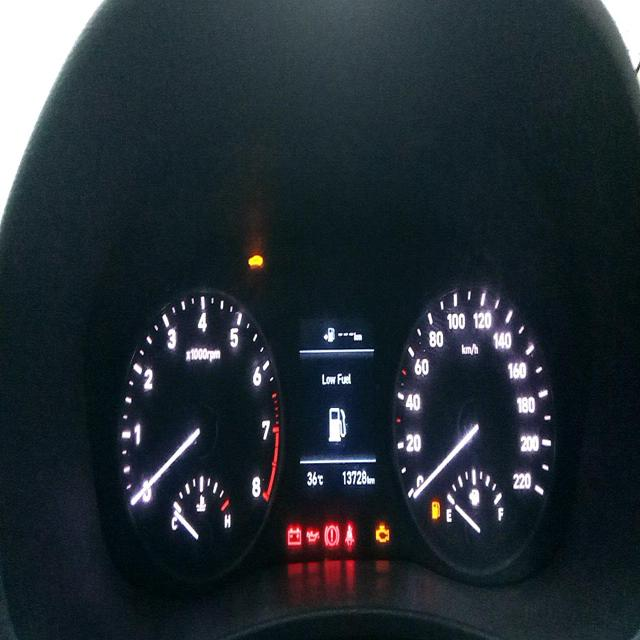odometer: (342, 467, 368, 488)
